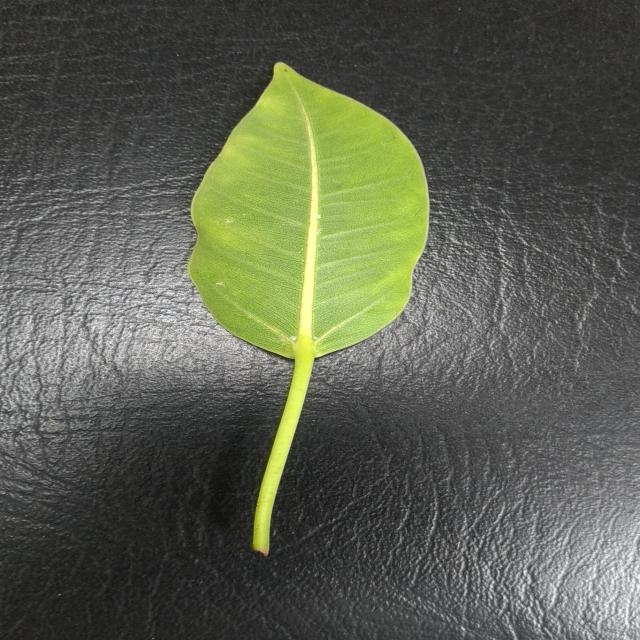camphor: (189, 64, 429, 470)
